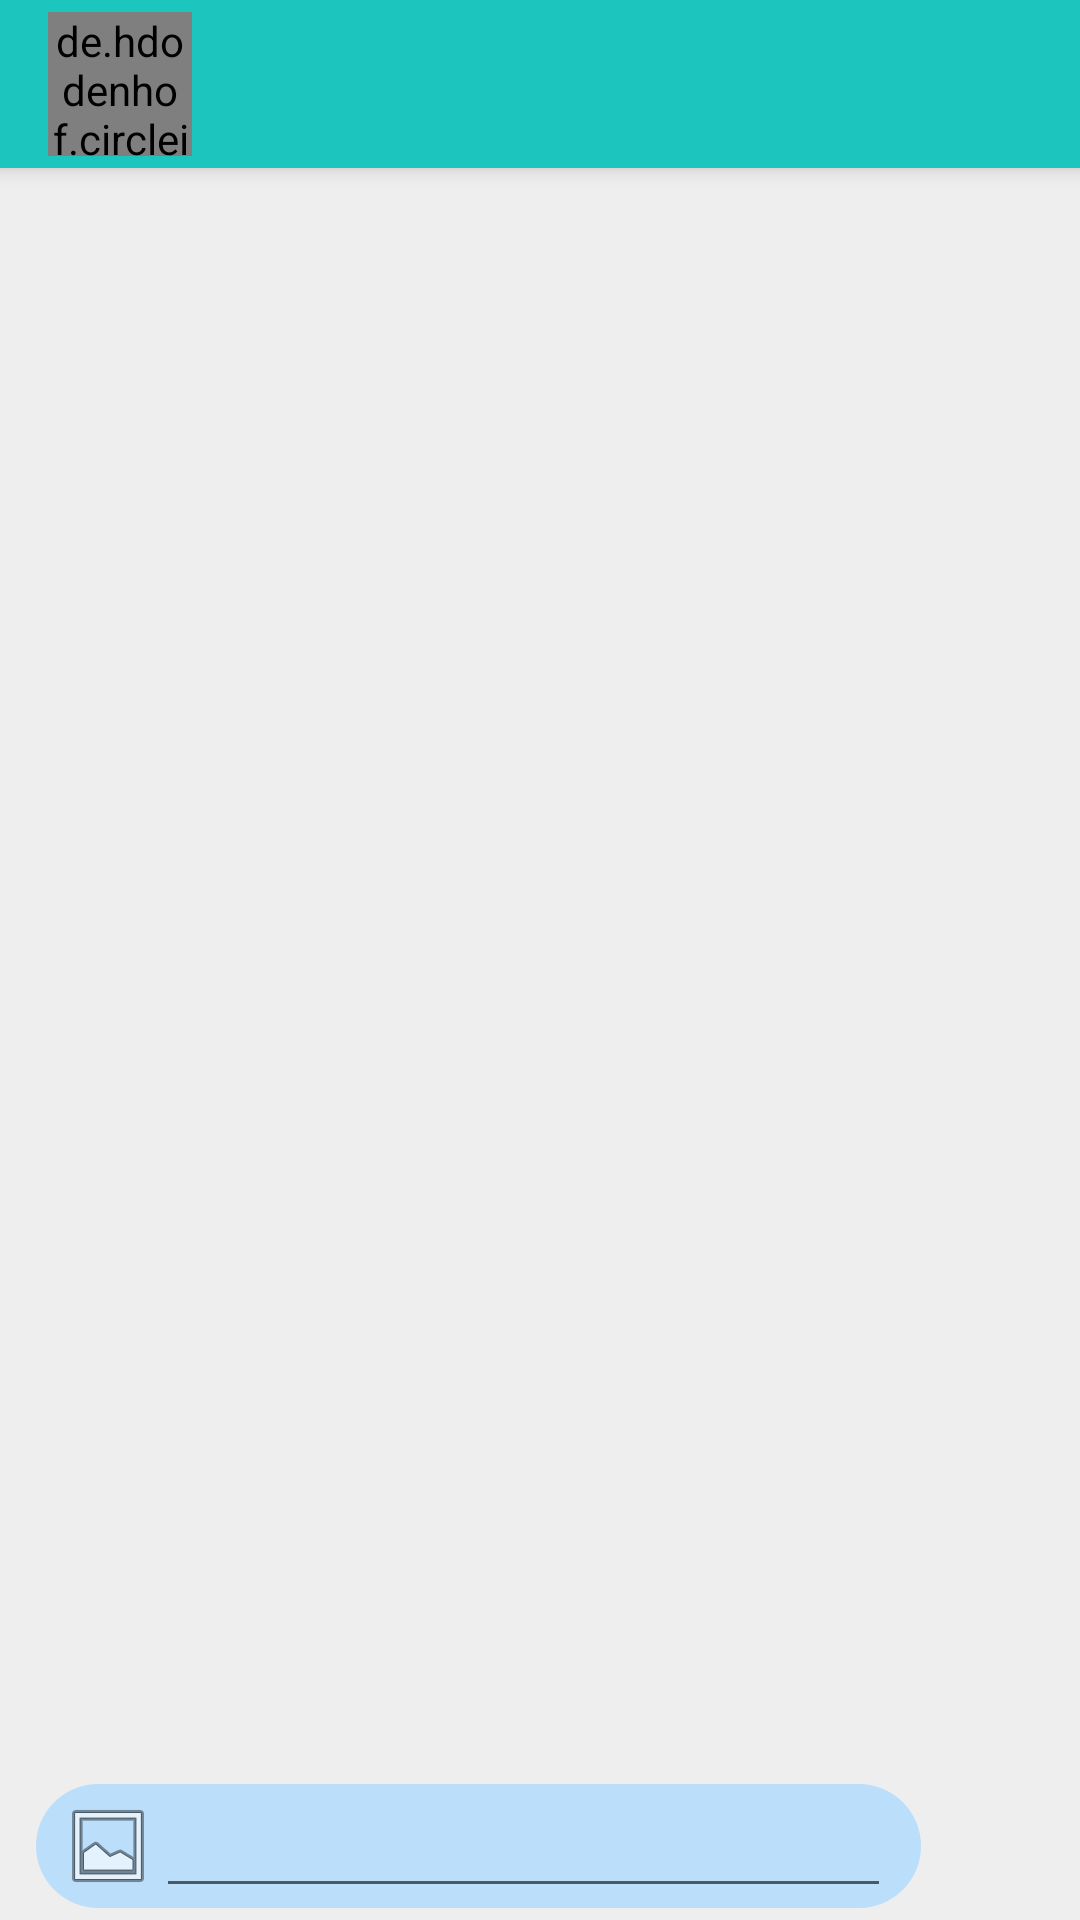

Screen size 1080px×1920px. Icon name, then its center in pixels as (x,y):
Seleccionar imagen desde la Galería: (108,1846)
